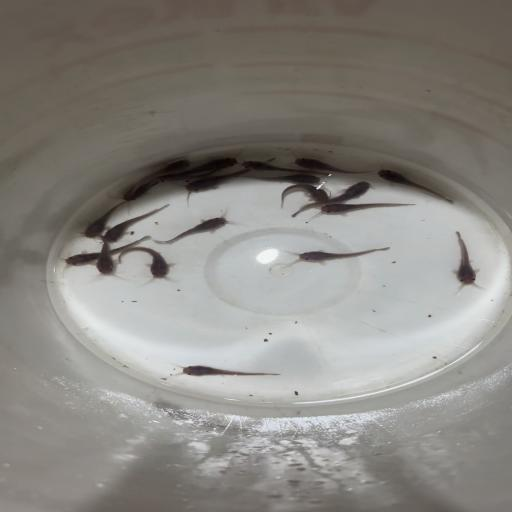lele: (53, 235, 153, 272), (179, 156, 276, 194), (290, 180, 372, 220), (375, 168, 457, 204), (275, 244, 392, 268), (102, 204, 170, 244), (444, 229, 484, 293), (153, 213, 232, 245), (161, 361, 283, 380), (125, 157, 191, 189), (308, 200, 418, 219), (291, 152, 377, 176), (117, 246, 174, 280), (81, 201, 128, 238), (240, 158, 330, 176), (161, 155, 241, 175), (278, 181, 330, 209), (114, 182, 165, 204), (243, 172, 320, 185), (92, 234, 115, 276), (150, 169, 218, 183)
